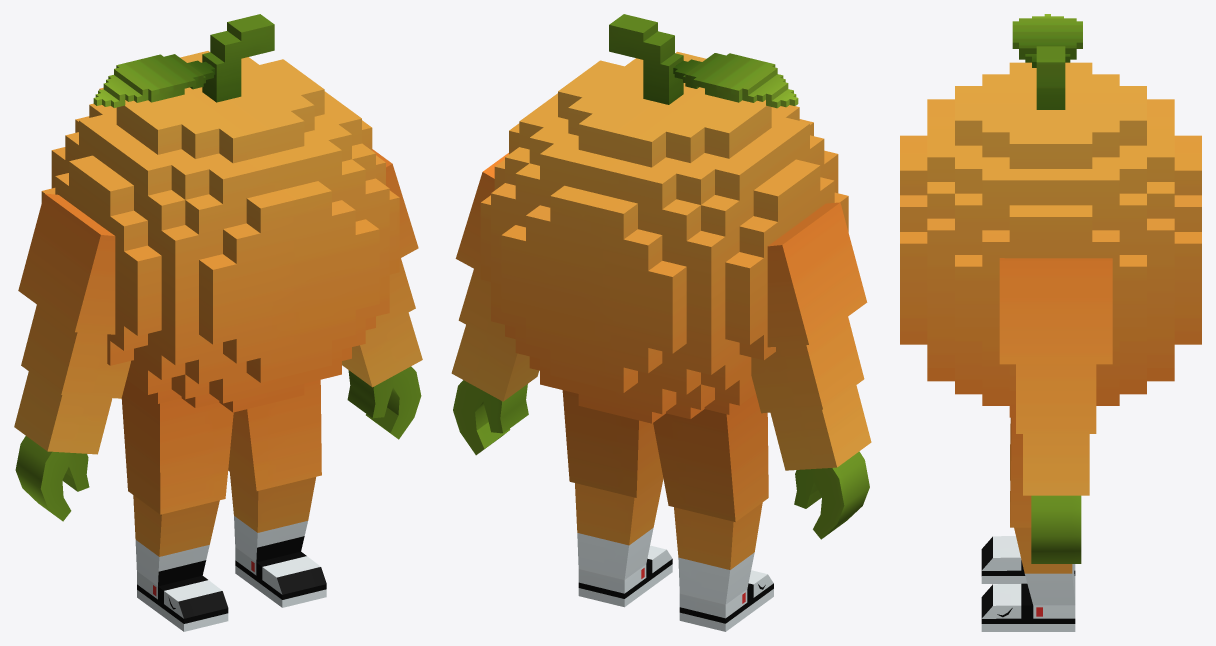
File: udindin.fbx
The picture shows the model from 3 angles, left to right: view 1: azimuth 30°, elevation 25°; view 2: azimuth 150°, elevation 25°; view 3: azimuth 270°, elevation 25°; orthographic projection. The views are drawn at different scales.
Parts seen in each view (by area): view 1: Sphere; view 2: Sphere; view 3: Sphere.
Part boxes in pixels (x1,y1,x2,y2): Sphere: (14,14,422,631); Sphere: (451,14,871,631); Sphere: (900,14,1201,631).
Bounding box in the file's own units: 1.67 × 2.33 × 1.15.
